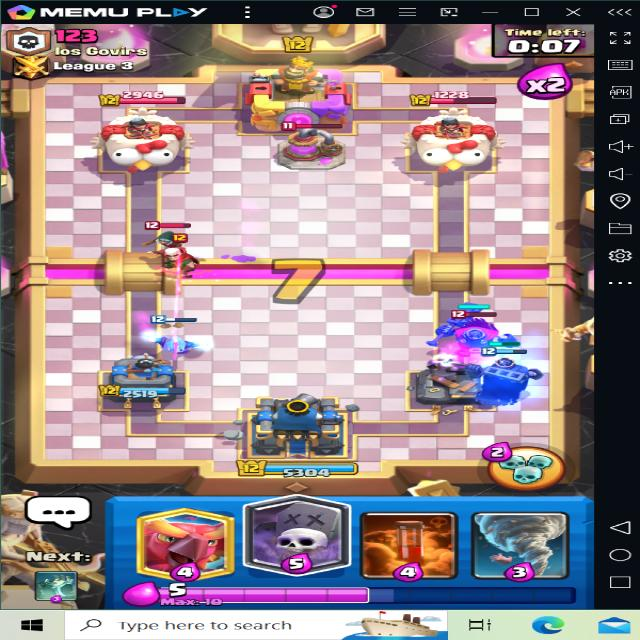bandit: (140, 218, 197, 251)
elixir-collector: (272, 116, 356, 168)
magic-archer: (146, 235, 208, 280)
skeleton-king: (439, 302, 520, 361)
